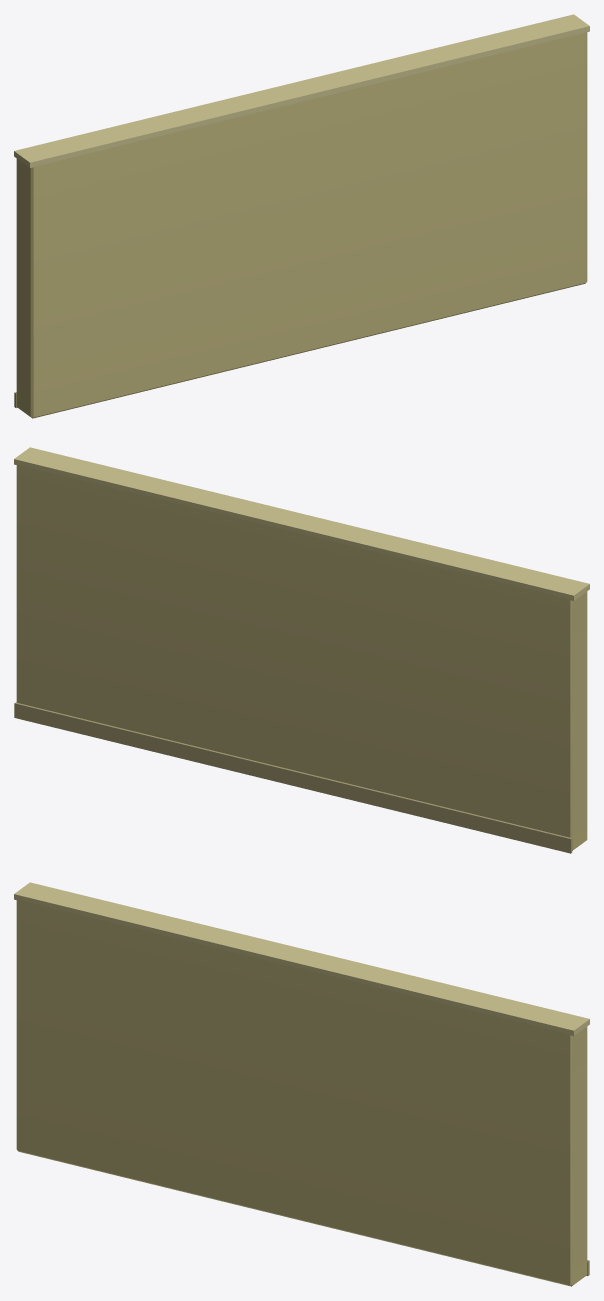
The model's file is BR_WallPanel.glb.
The picture shows the model from 3 angles, top to bottom: view 1: azimuth 30°, elevation 25°; view 2: azimuth 150°, elevation 25°; view 3: azimuth 330°, elevation 25°; orthographic projection.
Visible parts, largest first — view 1: Body; view 2: Body; view 3: Body.
Boxes of the visible parts, <box> form: Body: <box>14,14,589,418</box>; Body: <box>14,447,589,853</box>; Body: <box>14,882,589,1286</box>.
Bounding box in the file's own units: 32.2 × 14.15 × 1.73.
